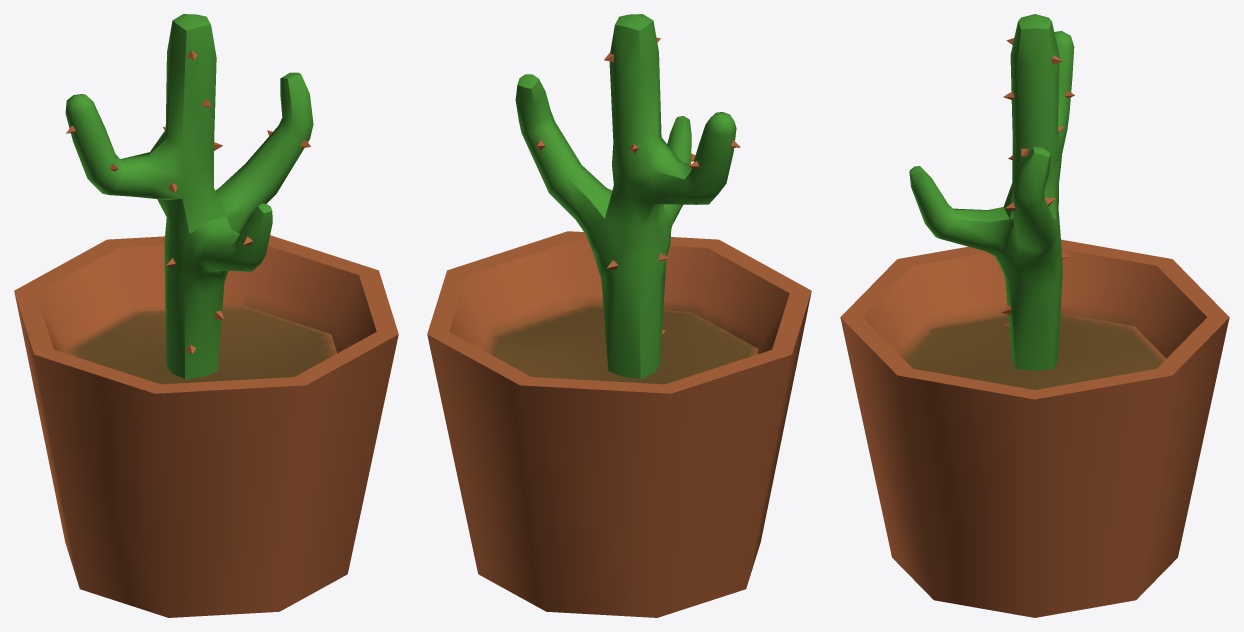
The model's file is Cactus.fbx.
The picture shows the model from 3 angles, left to right: view 1: azimuth 30°, elevation 25°; view 2: azimuth 150°, elevation 25°; view 3: azimuth 270°, elevation 25°; orthographic projection. The views are drawn at different scales.
Parts seen in each view (by area): view 1: Cactus; view 2: Cactus; view 3: Cactus.
Part boxes in pixels (x1,y1,x2,y2): Cactus: (14, 14, 398, 617); Cactus: (427, 14, 811, 617); Cactus: (840, 14, 1229, 617).
Bounding box in the file's own units: 38.26 × 57.94 × 38.26.
